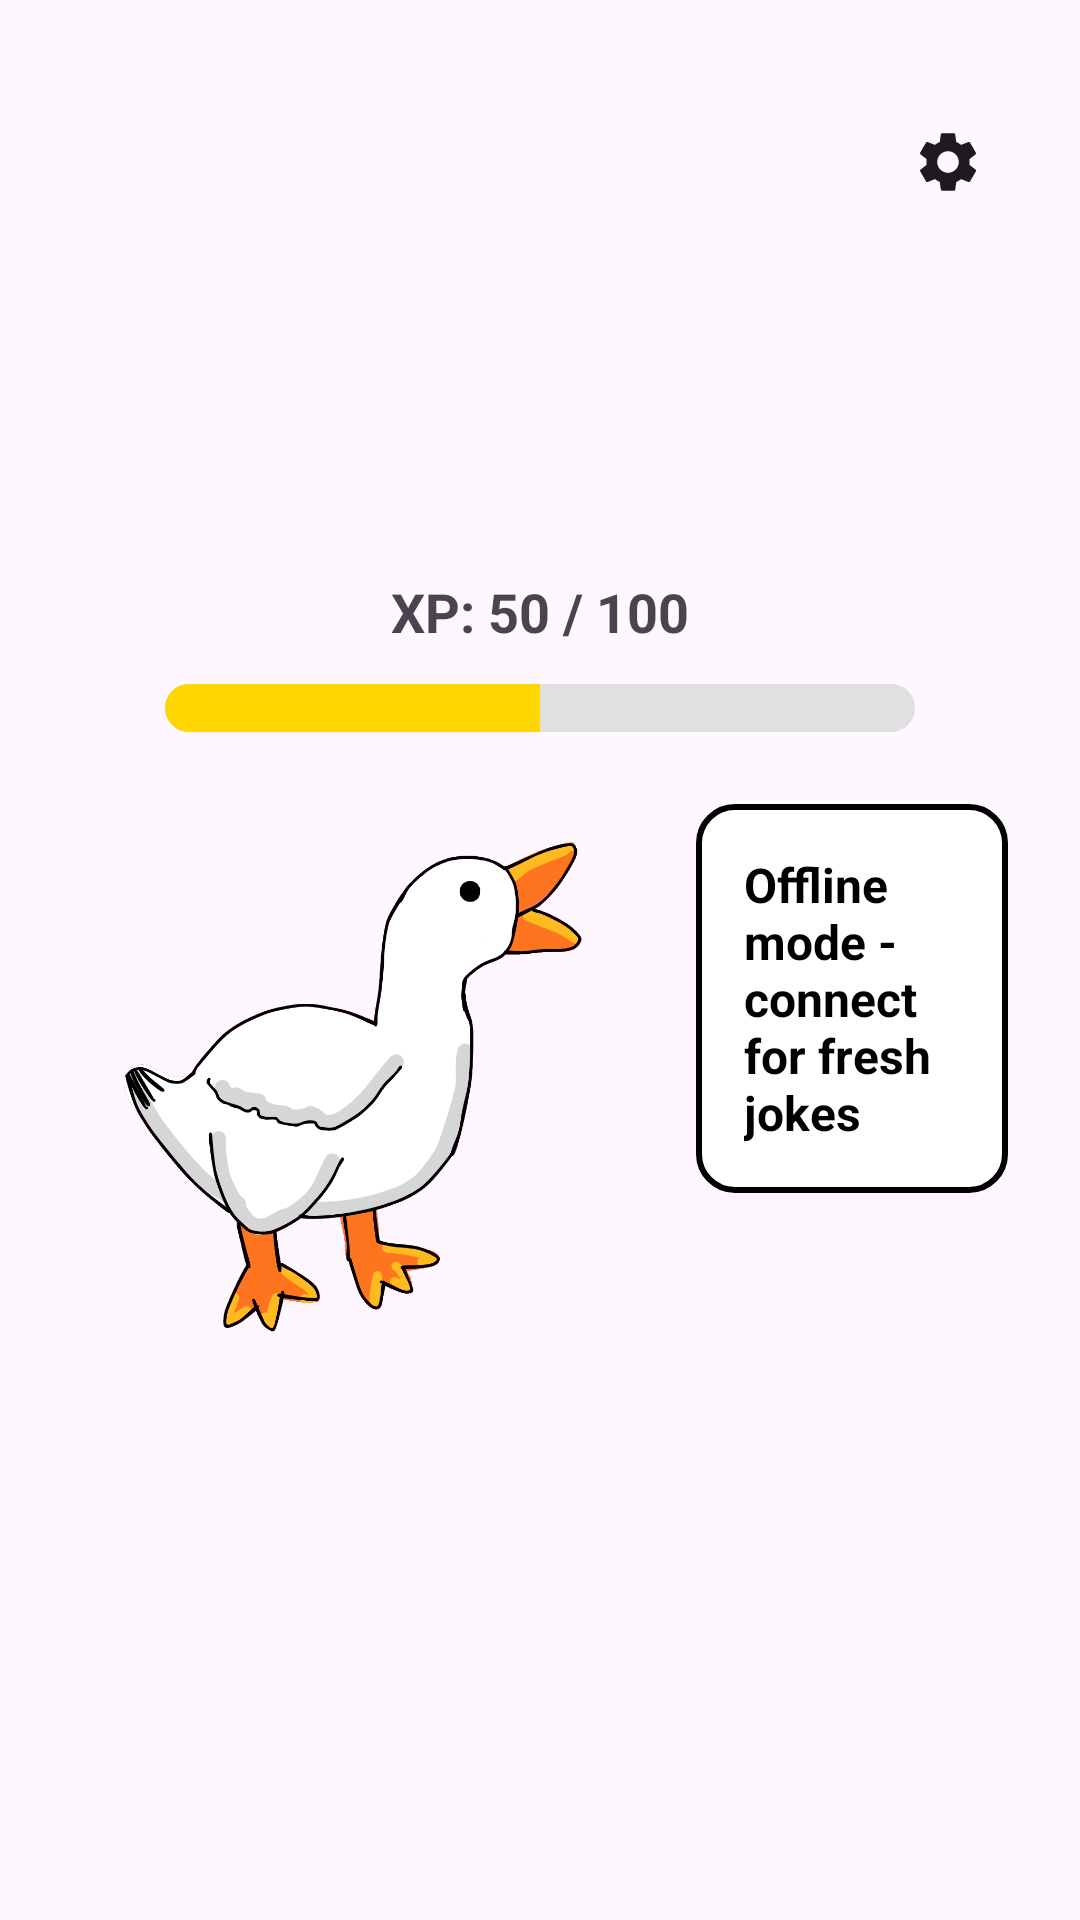

Screen size 1080 × 1920. Icon name, then its center in pixels as (x,y):
Settings: (948,162)
